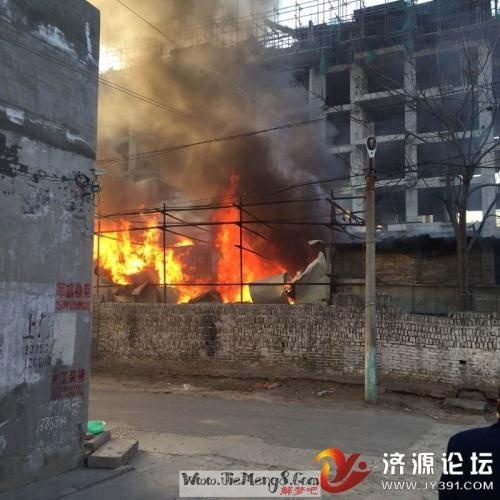fire: (97, 185, 293, 304)
